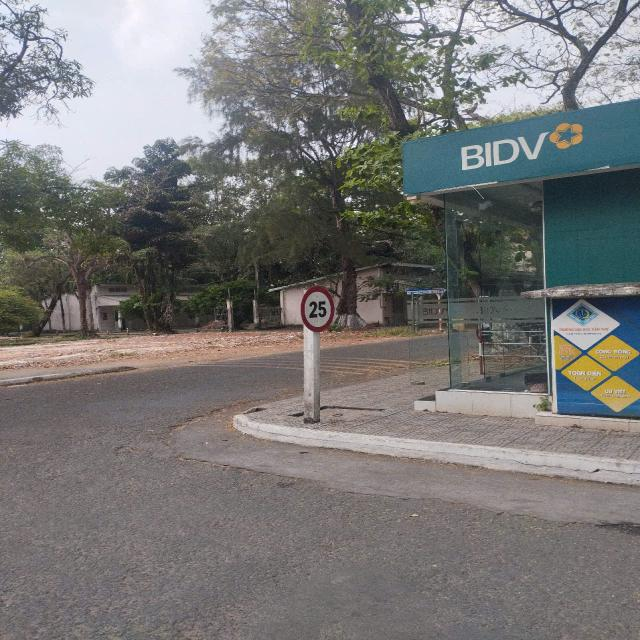Tre_Em: (300, 286, 336, 334)
